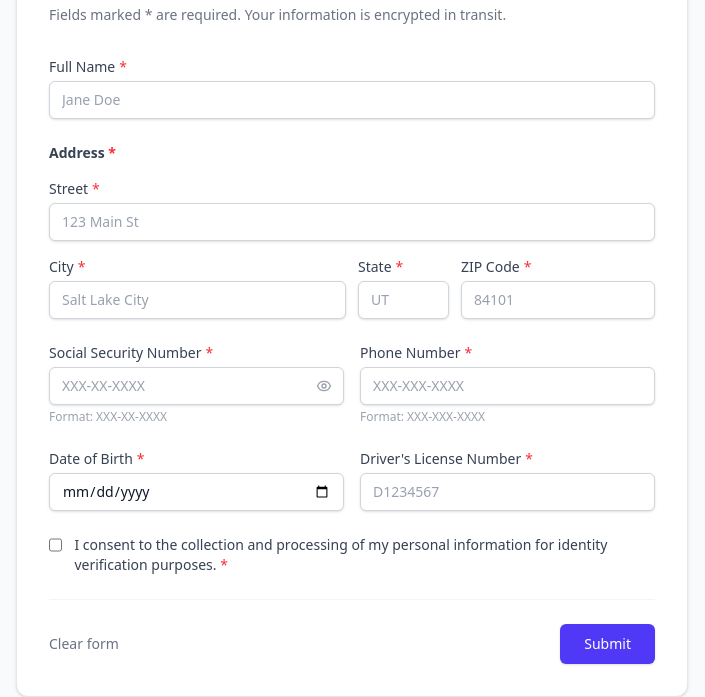
Test: IdentityForm — submit blocked when invalid › shows errors for ALL fields when submitting empty form
(page scrolled)
Click the button "Submit".
click(608, 644)  # box [560, 624, 655, 664]
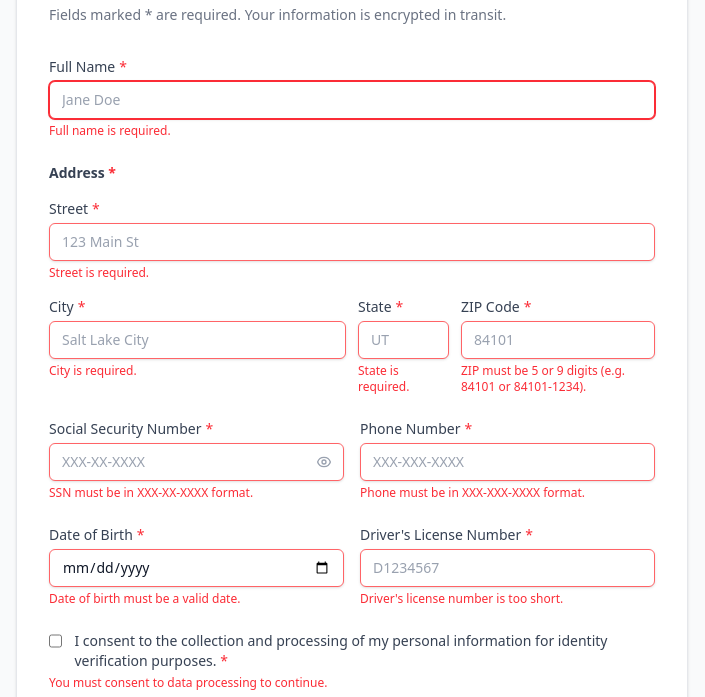
Expected: the text "Full name is required." is shown, [49, 122, 171, 139]
Expected: the text "Street is required." is shown, [49, 264, 149, 281]
Expected: the text "City is required." is shown, [49, 362, 137, 379]
